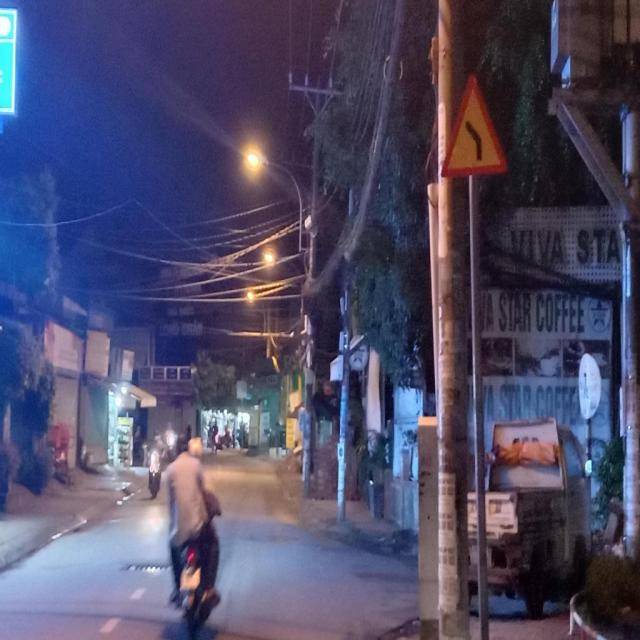cho_ngoat_nguy_hiem_ben_trai: (440, 69, 510, 179)
